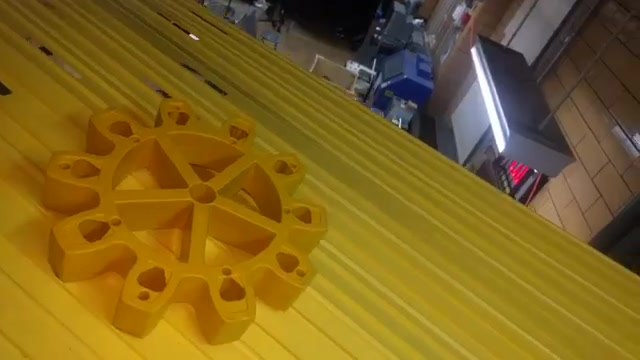gear: (31, 77, 338, 349)
